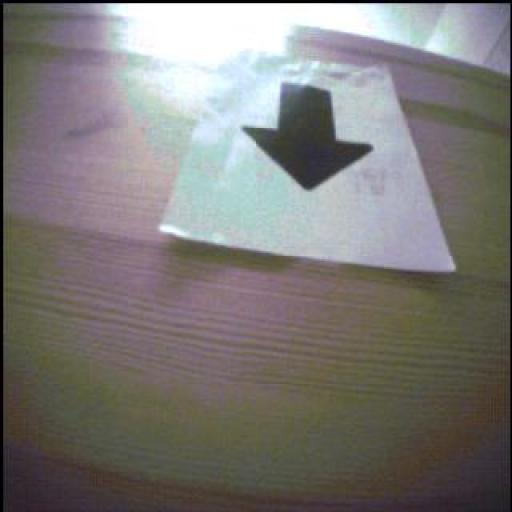arrow: (244, 85, 374, 192)
